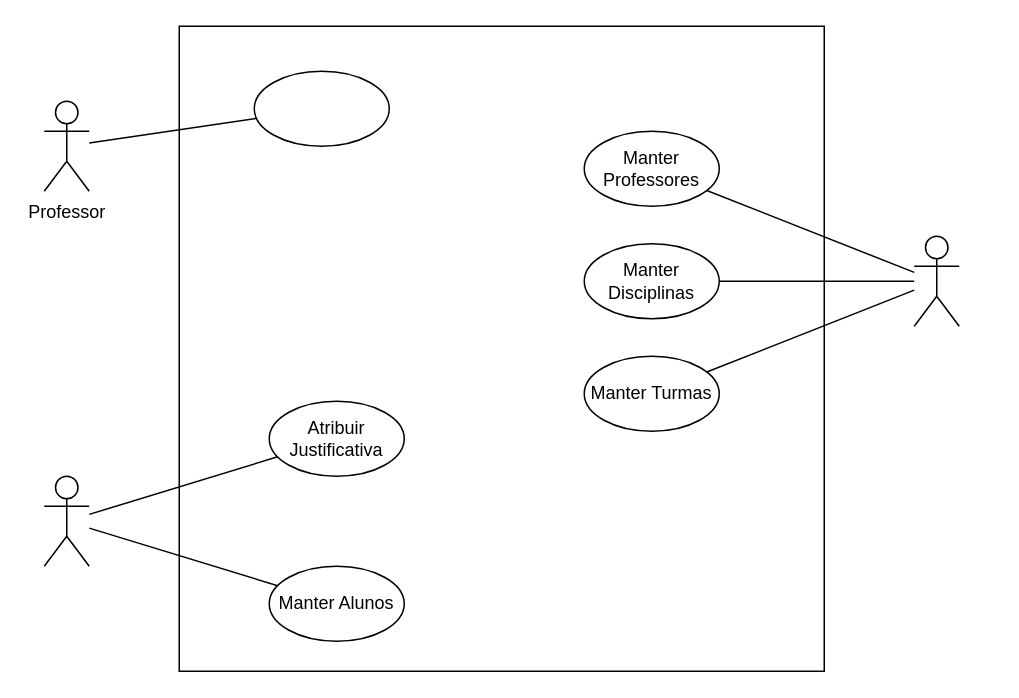
Some shapes in this 1019 by 698 pixel diagram are drawn without their labels. Each missing label, with the centre of its shape:
"Atribuir Faltas" goes at [321,108].
"Diretor (ADM)" goes at [936,280].
"Secretaria" goes at [66,520].
